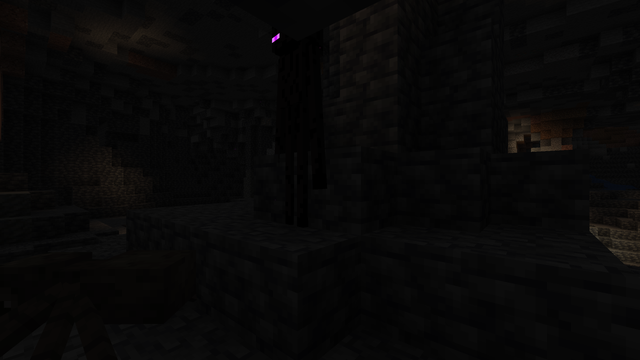araignees: (34, 231, 189, 355)
endermens: (266, 51, 328, 231)
